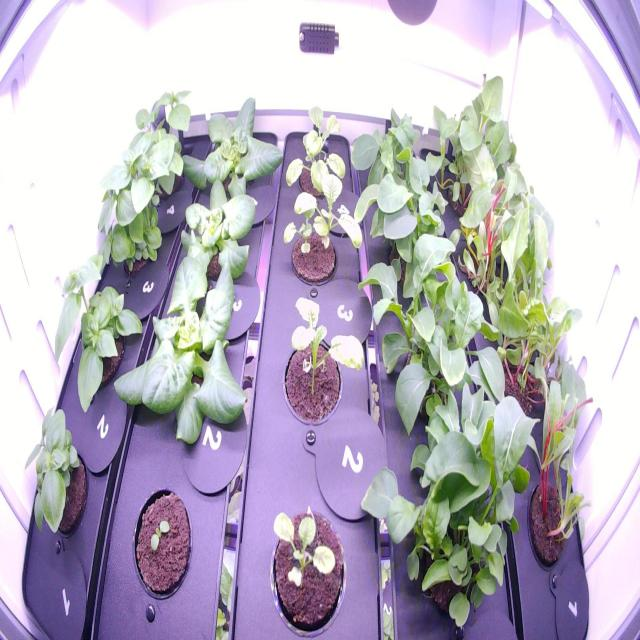germination: (269, 503, 356, 638), (125, 478, 199, 612)
young: (104, 238, 256, 453), (174, 85, 288, 208), (168, 172, 266, 292)
